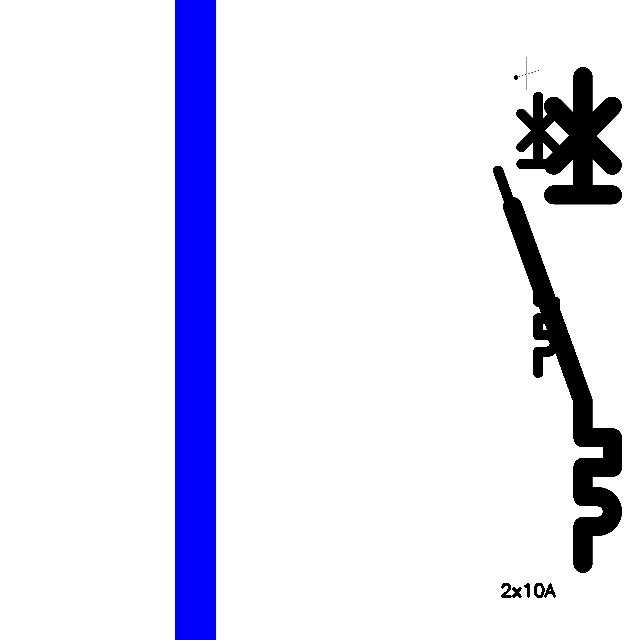interruptor_termomagnetico: (500, 64, 625, 576), (491, 89, 562, 379)
